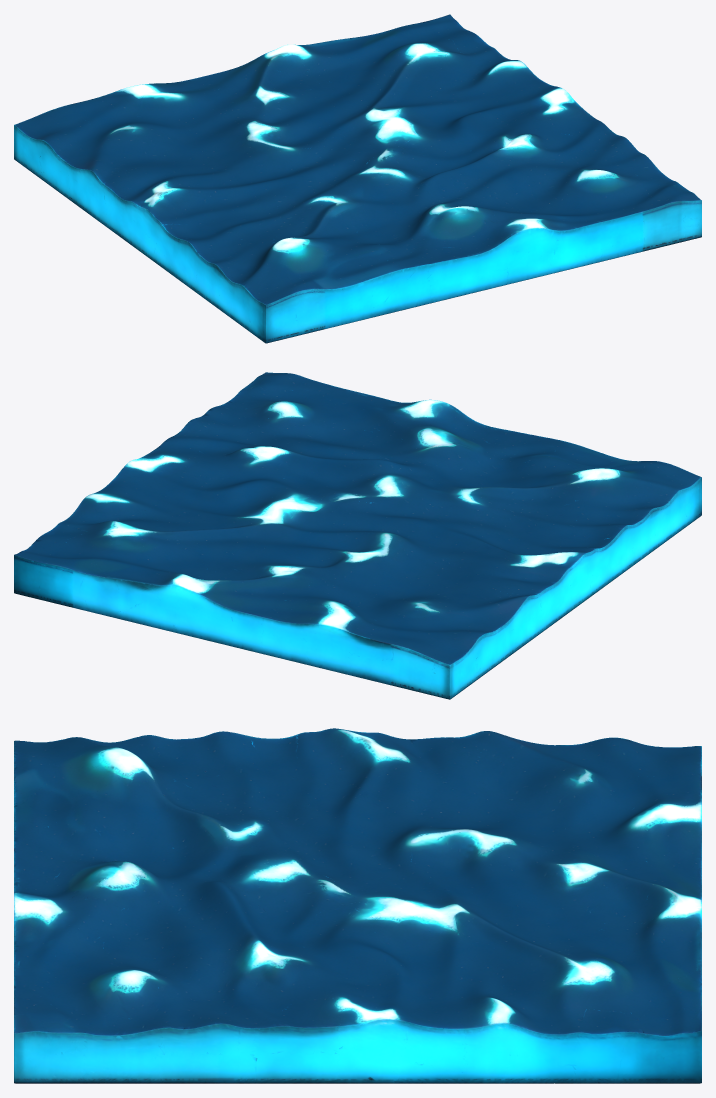
Rendered from ocean-terrain.glb.
3 renders of one model, top to bottom at view 1: azimuth 30°, elevation 25°; view 2: azimuth 150°, elevation 25°; view 3: azimuth 270°, elevation 25°, orthographic. The views are drawn at different scales.
Size of the model in its own units: 1.9 by 0.2395 by 1.9.
1 material, 1 textured.
